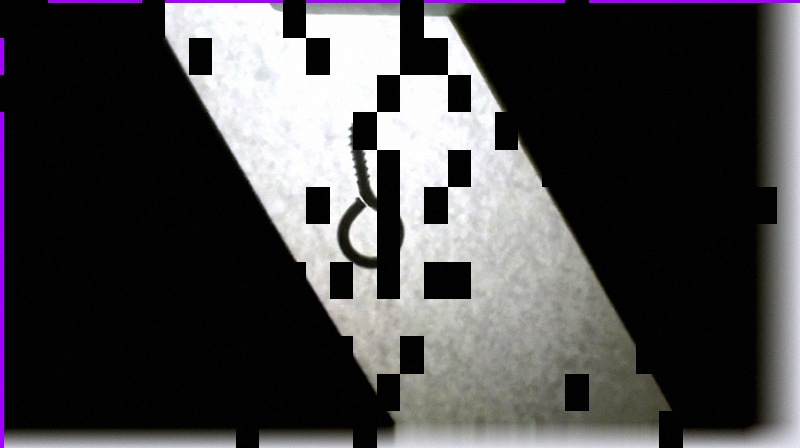O001: (331, 118, 407, 269)
